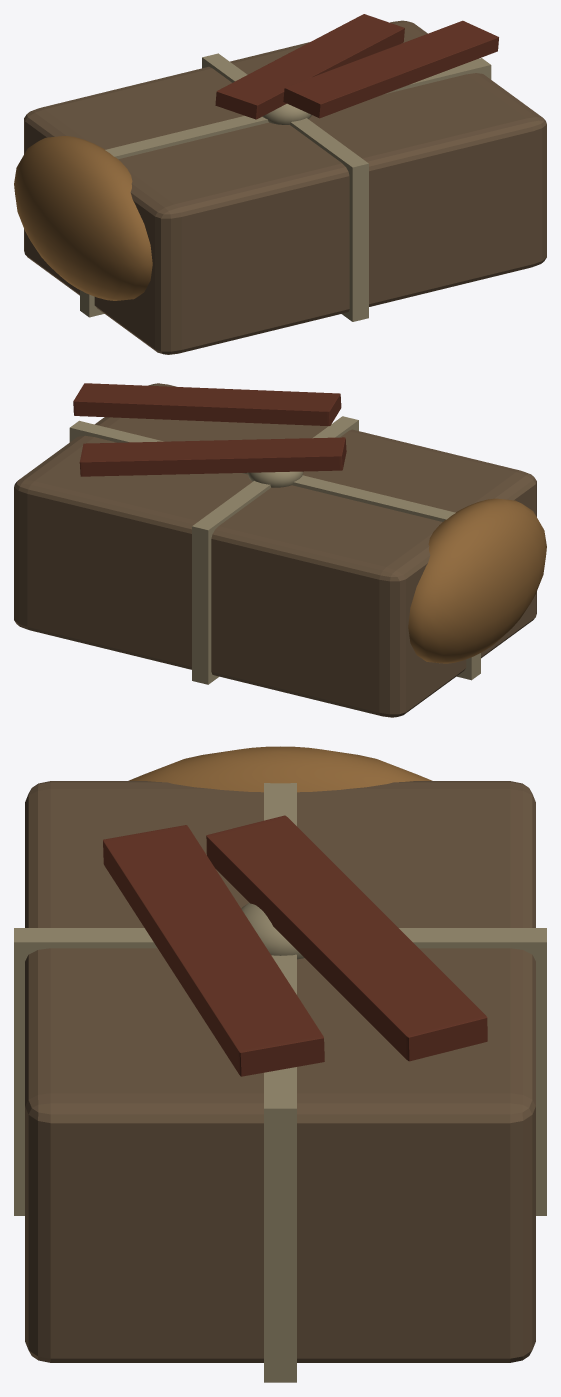
File: rations.glb
The picture shows the model from 3 angles, top to bottom: view 1: azimuth 30°, elevation 25°; view 2: azimuth 150°, elevation 25°; view 3: azimuth 270°, elevation 25°; orthographic projection. The views are drawn at different scales.
Visible parts, largest first — view 1: parcel, loaf, jerky1, jerky0, twine1, twine0, knot; view 2: parcel, loaf, jerky0, jerky1, twine1, twine0, knot; view 3: parcel, jerky0, jerky1, twine0, twine1, loaf, knot.
Boxes of the visible parts, bbox=[...] form: parcel: bbox=[24, 20, 546, 354]; loaf: bbox=[14, 136, 152, 300]; jerky1: bbox=[283, 20, 498, 118]; jerky0: bbox=[215, 14, 404, 119]; twine1: bbox=[202, 53, 368, 321]; twine0: bbox=[80, 58, 491, 317]; knot: bbox=[262, 103, 311, 124]; parcel: bbox=[14, 383, 536, 717]; loaf: bbox=[408, 498, 546, 663]; jerky0: bbox=[79, 437, 346, 476]; jerky1: bbox=[73, 383, 341, 425]; twine1: bbox=[192, 416, 358, 684]; twine0: bbox=[69, 420, 480, 680]; knot: bbox=[247, 471, 303, 487]; parcel: bbox=[25, 781, 535, 1362]; jerky0: bbox=[206, 815, 487, 1061]; jerky1: bbox=[103, 825, 324, 1076]; twine0: bbox=[264, 783, 296, 1382]; twine1: bbox=[14, 928, 546, 1215]; loaf: bbox=[128, 746, 432, 792]; knot: bbox=[241, 902, 304, 959].
Size of the model in its own units: 0.8126 by 0.3579 by 0.48.
